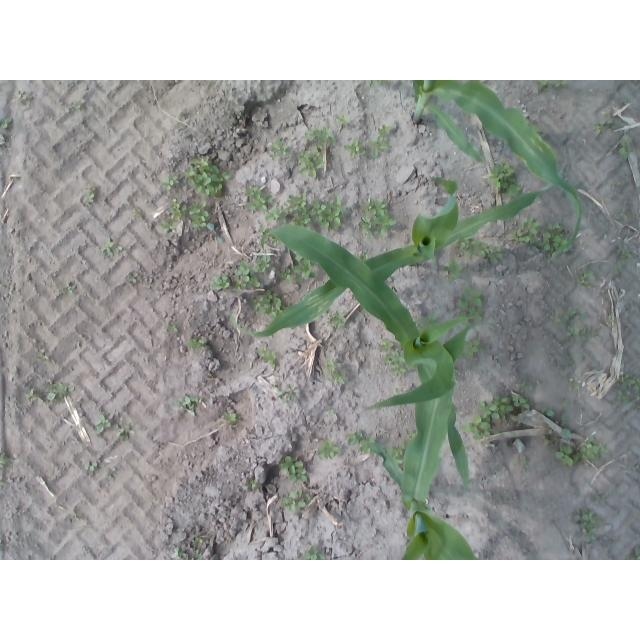Maize: (262, 225, 501, 487), (230, 162, 567, 338), (368, 320, 500, 560), (411, 80, 582, 257)
Weeds: (259, 191, 349, 232), (462, 396, 531, 440), (542, 428, 611, 470), (508, 212, 573, 256), (212, 252, 278, 291), (185, 153, 236, 199), (297, 126, 336, 179), (360, 198, 400, 237), (460, 239, 505, 267), (491, 160, 524, 197), (277, 257, 319, 284), (273, 489, 313, 515), (279, 454, 311, 484), (242, 184, 276, 212), (250, 290, 282, 319), (44, 377, 76, 406), (572, 507, 597, 544), (158, 198, 186, 231), (345, 426, 375, 454), (460, 290, 485, 323), (368, 123, 392, 157), (616, 375, 640, 409), (189, 199, 215, 230), (324, 359, 349, 390), (383, 349, 406, 379), (100, 235, 125, 262), (316, 438, 344, 462), (274, 381, 299, 407), (614, 247, 634, 278), (254, 346, 278, 371), (536, 81, 572, 96), (566, 327, 602, 342), (271, 139, 294, 162), (171, 394, 204, 410), (115, 415, 135, 441), (578, 269, 598, 294), (344, 140, 368, 160), (297, 544, 327, 560), (618, 135, 635, 162), (565, 306, 592, 323), (444, 257, 464, 279), (565, 353, 587, 372), (329, 309, 347, 332), (467, 336, 486, 357), (161, 174, 183, 192), (94, 413, 112, 435), (80, 186, 99, 206), (207, 222, 225, 243), (595, 118, 613, 138), (25, 387, 45, 404), (185, 336, 207, 351), (126, 269, 142, 286), (390, 443, 407, 458), (520, 456, 532, 477), (57, 281, 75, 295), (83, 459, 101, 473), (593, 487, 606, 506), (221, 413, 240, 426), (515, 382, 537, 393), (336, 113, 352, 128), (379, 339, 396, 353), (369, 80, 388, 92), (169, 548, 188, 560), (37, 348, 52, 363), (0, 117, 16, 131), (568, 378, 582, 393), (625, 546, 640, 560), (542, 408, 559, 419), (1, 452, 12, 469), (245, 478, 260, 490), (0, 133, 10, 150), (132, 208, 145, 221), (192, 536, 206, 548), (166, 322, 179, 334), (74, 99, 86, 110), (18, 90, 30, 101), (271, 237, 282, 248), (327, 407, 338, 417), (106, 467, 115, 479), (191, 552, 204, 560), (406, 428, 415, 439), (561, 400, 571, 409), (353, 253, 368, 259), (0, 476, 6, 488), (620, 99, 629, 106), (554, 317, 562, 324), (237, 112, 243, 121), (0, 539, 4, 551)
